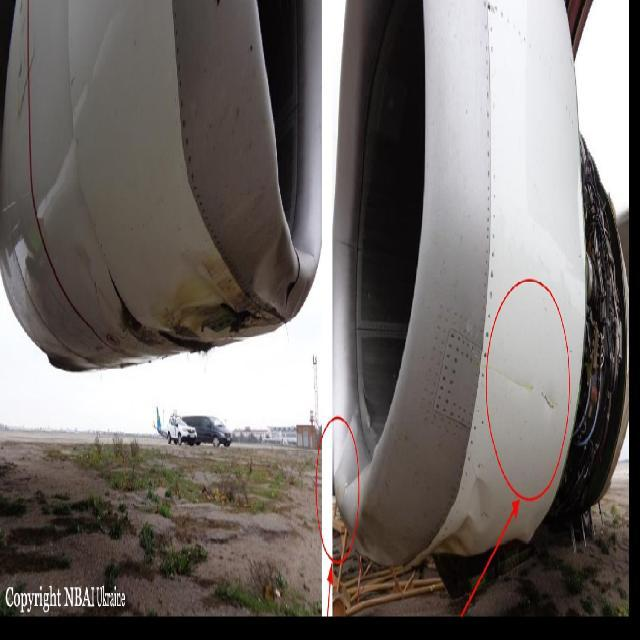crack: (540, 387, 557, 417)
dent: (430, 467, 502, 571)
